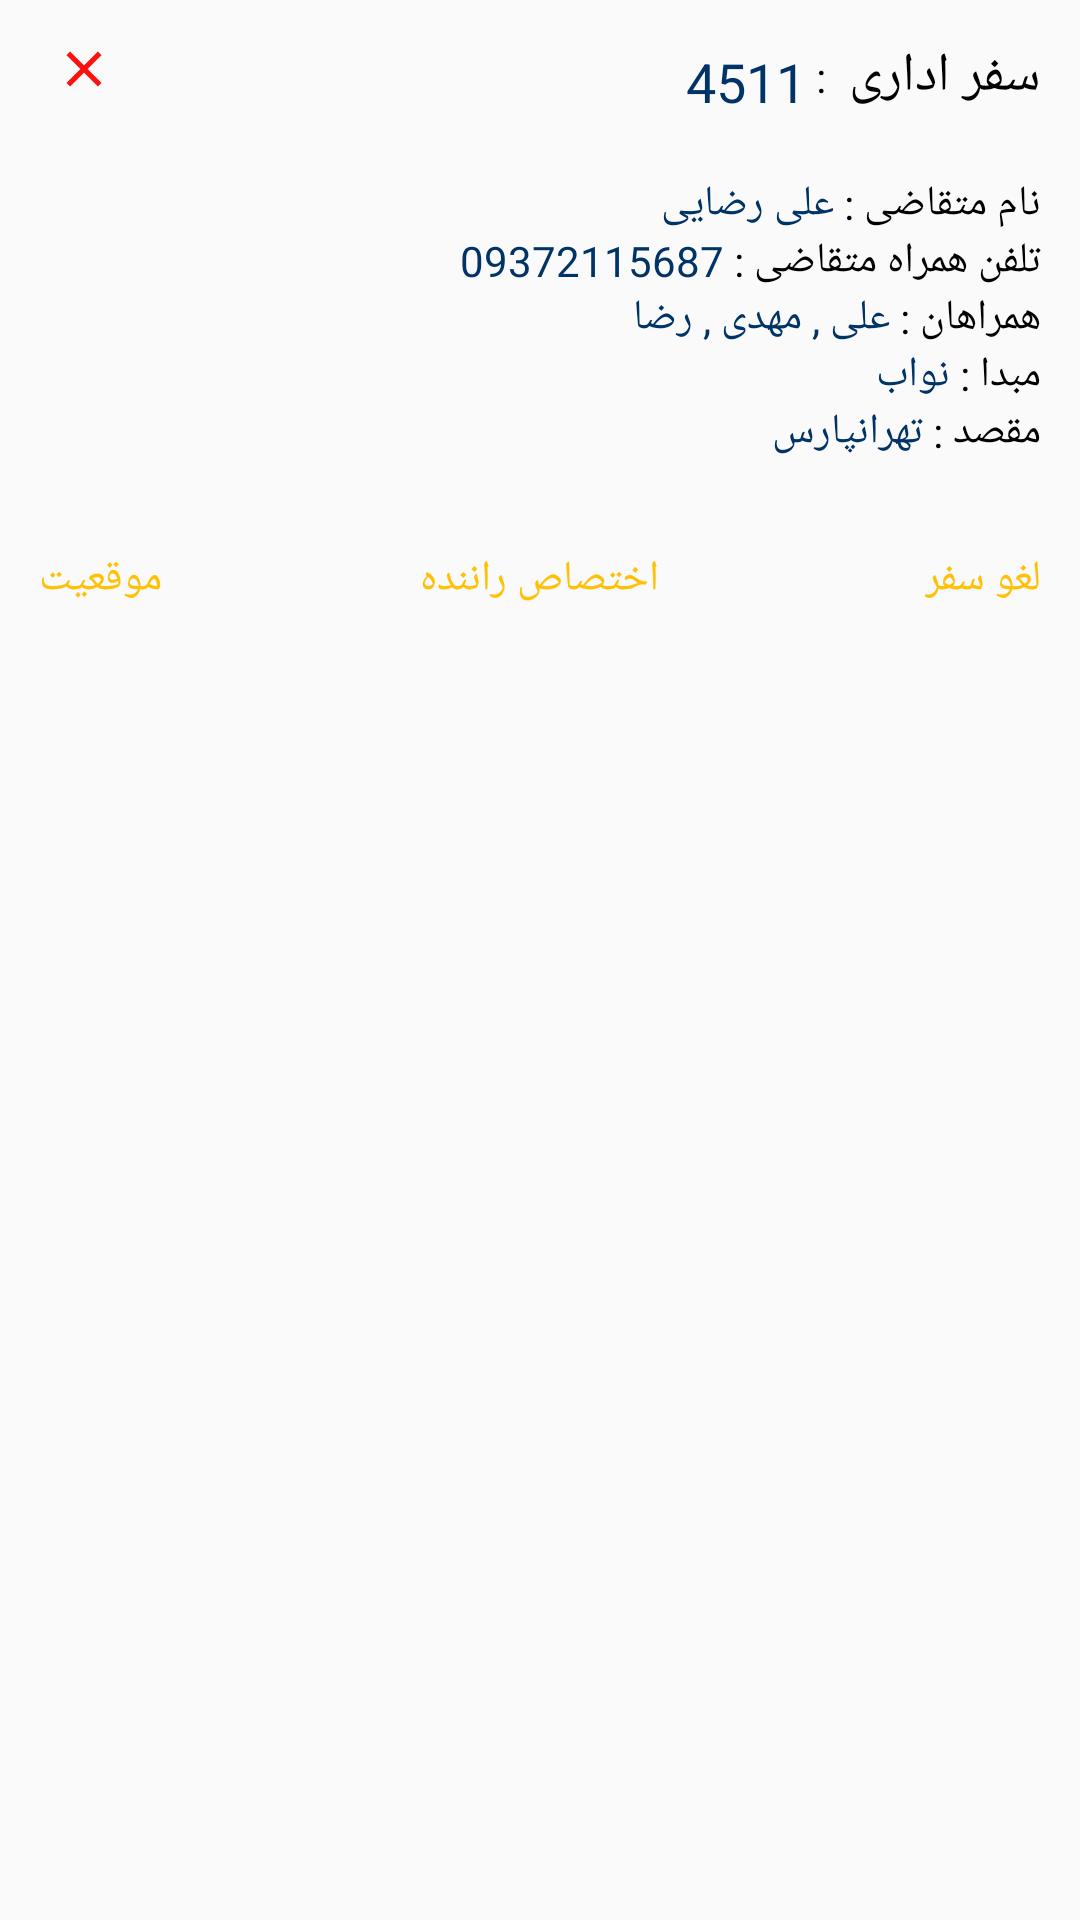

Named icons in this screenshot (1080 × 1920) and their centers, point (x, y):
delete: point (84, 69)
